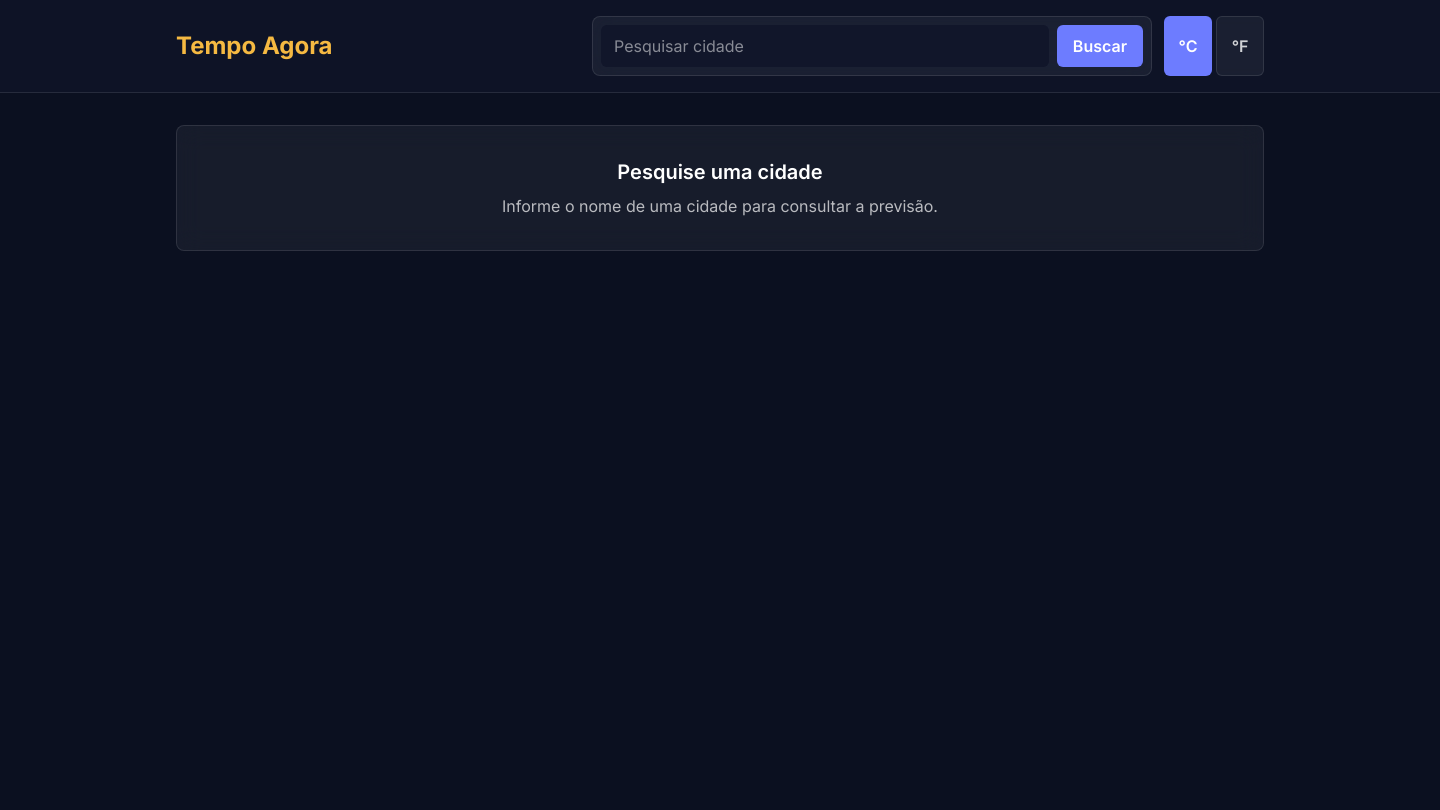
it: App › converte a temperatura atual e da previsão ao trocar a unidade
Type "Recife" into the search field labelled "Pesquisar cidade" at coordinates (825, 46), box left=601, top=25, right=1049, bottom=67
Then press Enter
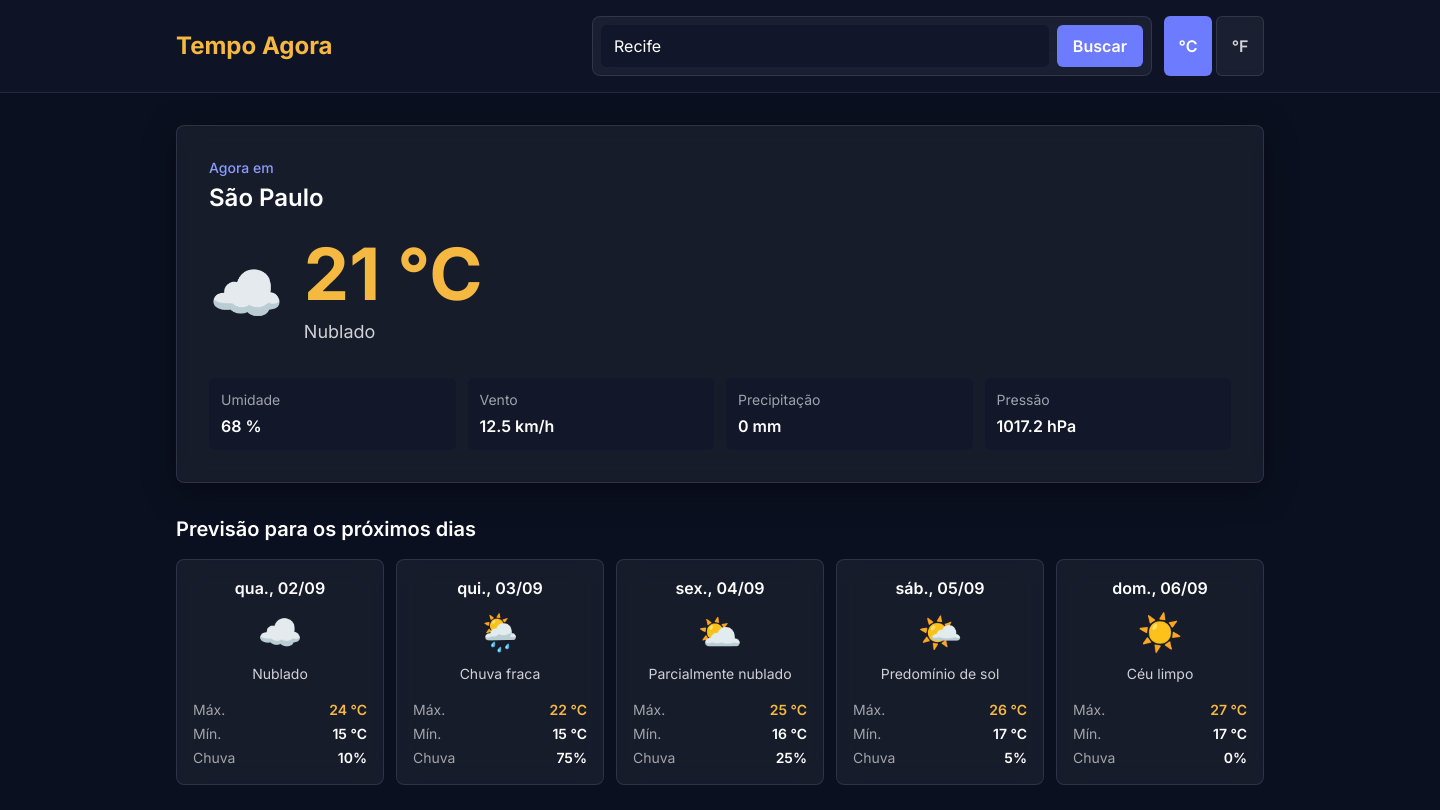
Expected: the heading "São Paulo" is shown, left=209, top=183, right=324, bottom=212
Click the button "°F" at coordinates (1240, 46), box left=1216, top=16, right=1264, bottom=76
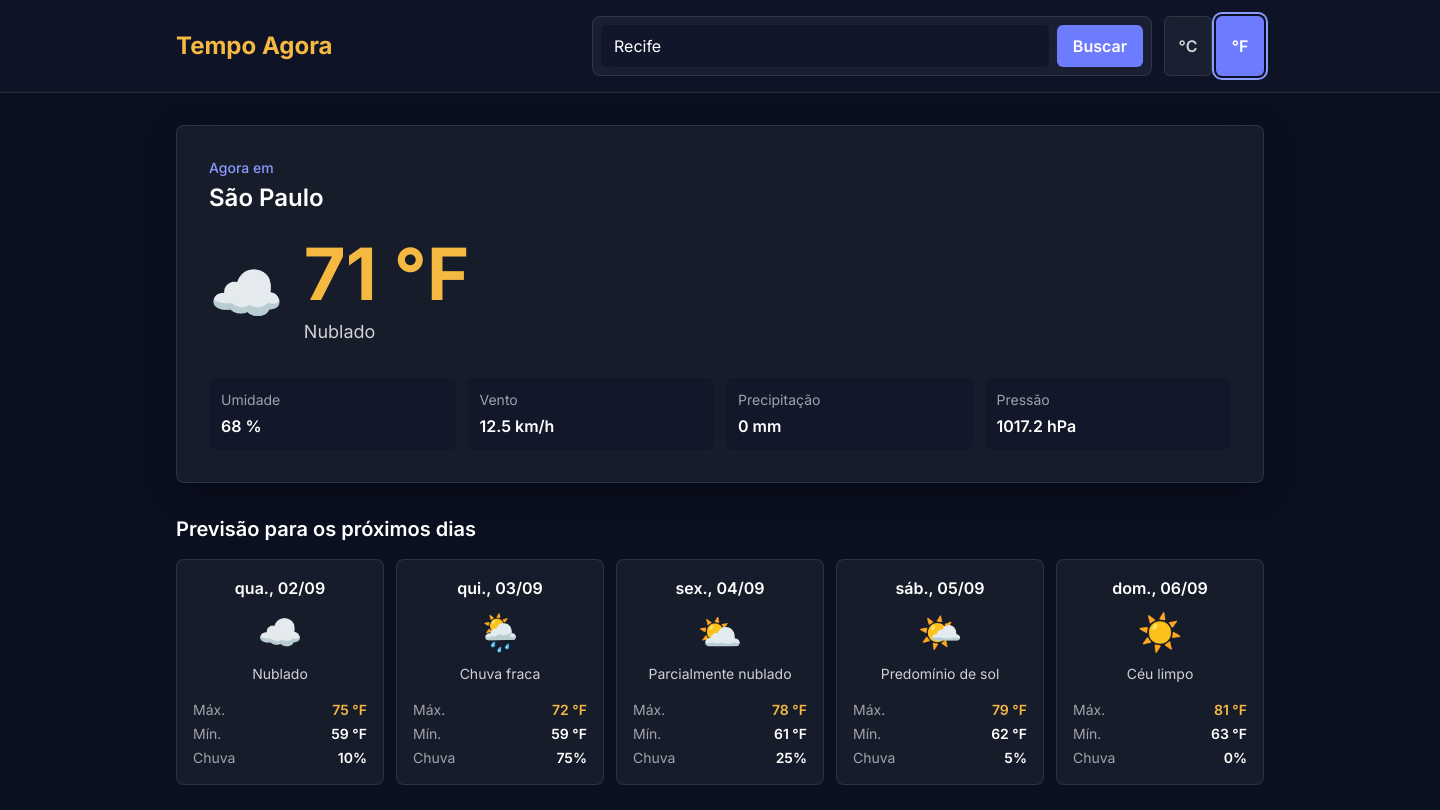
Expected: the text "71 °F" is shown, left=304, top=238, right=469, bottom=310
Expected: the text "75 °F" is shown, left=332, top=700, right=367, bottom=720
